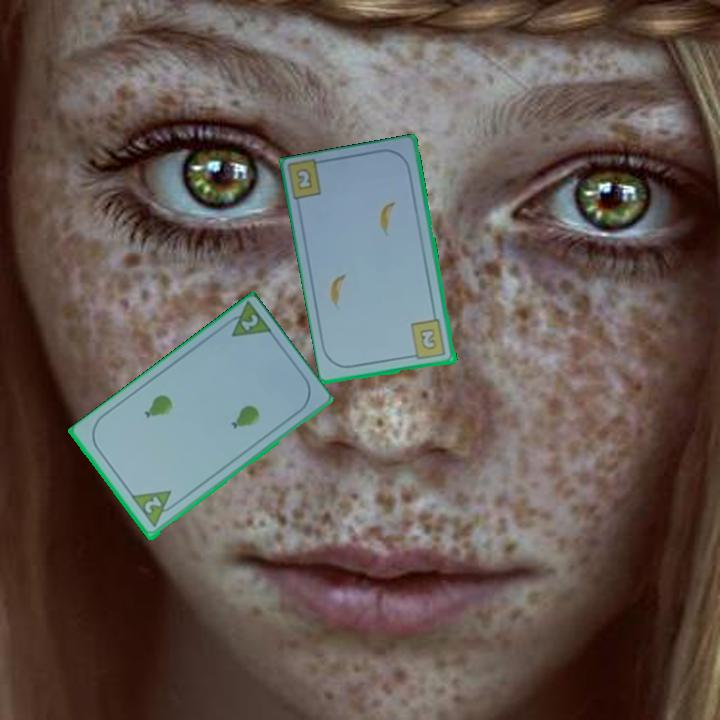2b: (407, 316, 449, 363), (292, 165, 316, 193)
2p: (129, 487, 182, 531), (219, 300, 275, 340)
